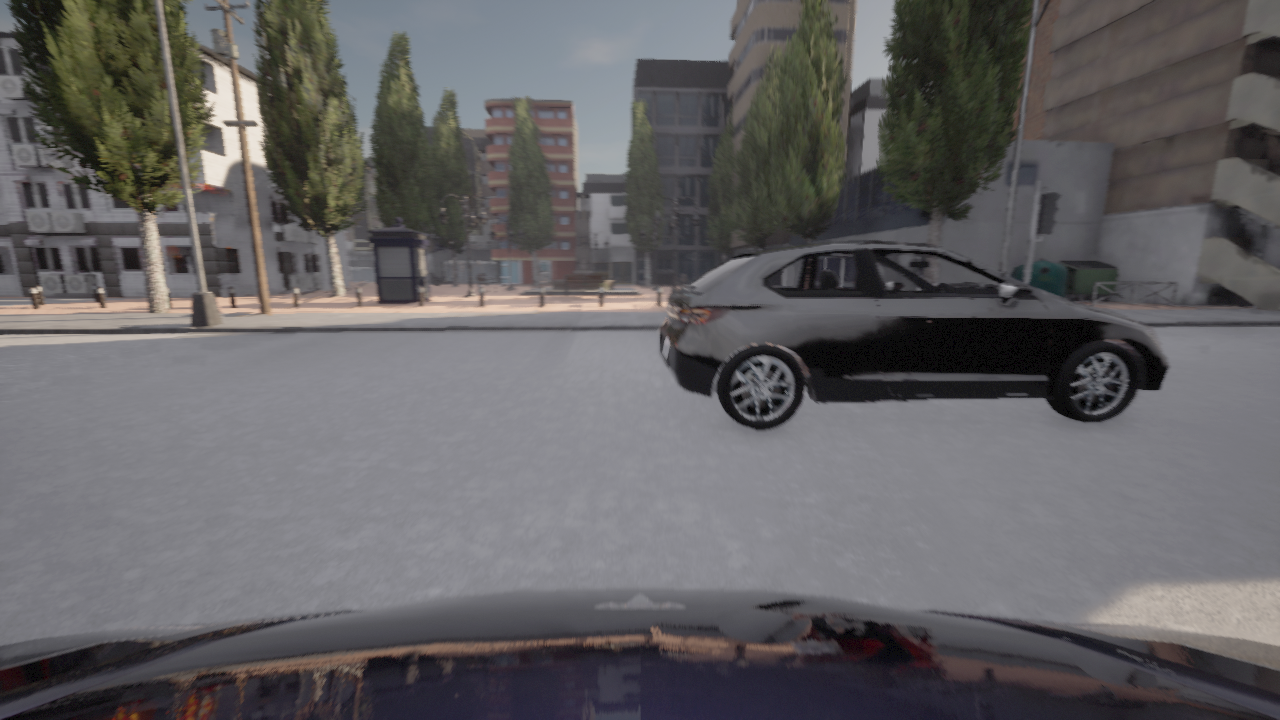cyclist: (0, 588, 1279, 719), (659, 242, 1168, 429)
